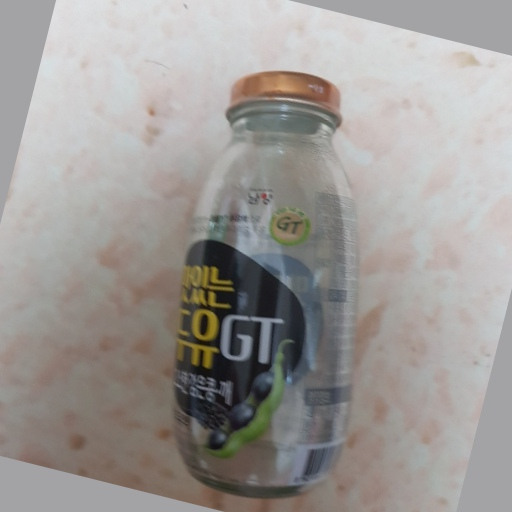Glass_4: (169, 67, 360, 495)
